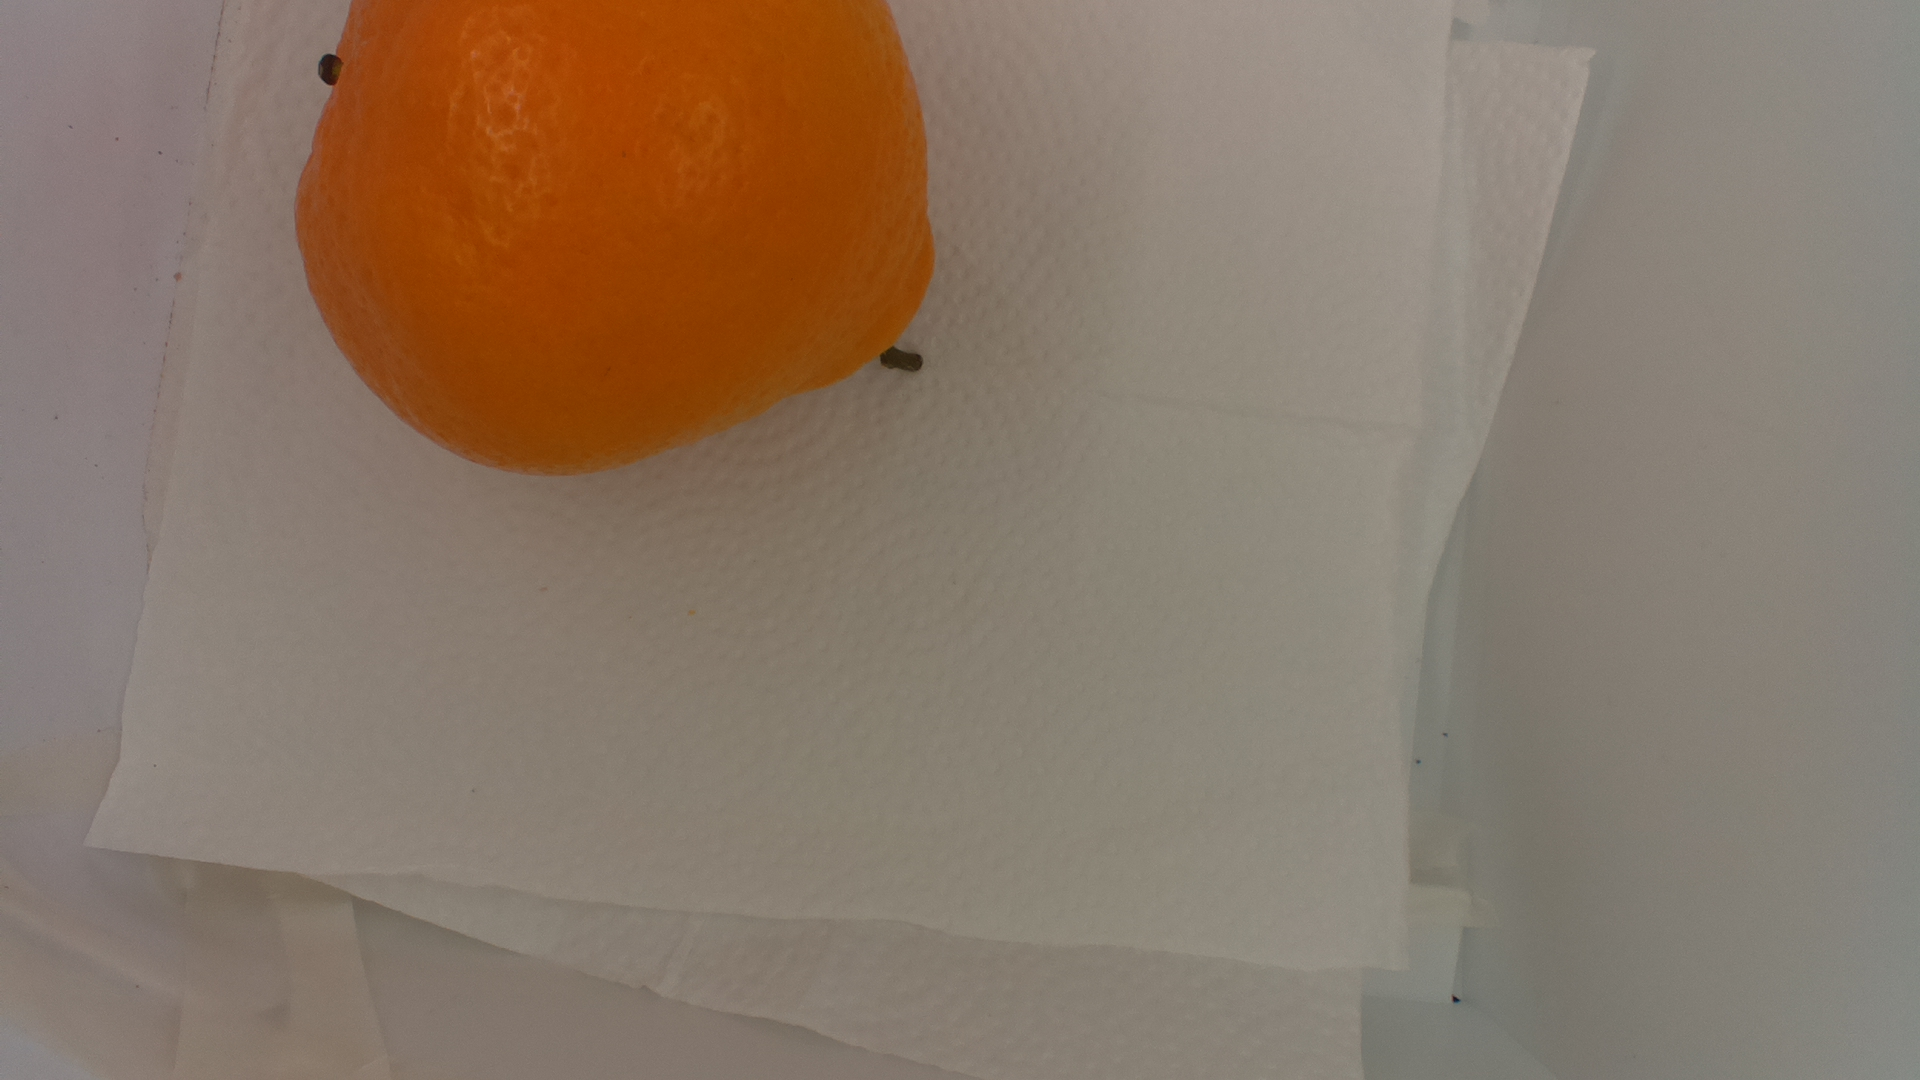fruit: (286, 1, 948, 483)
